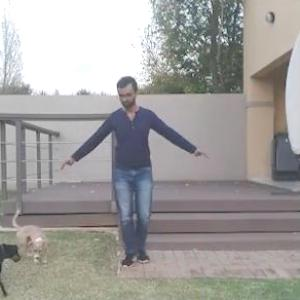land: (76, 72, 251, 283)
